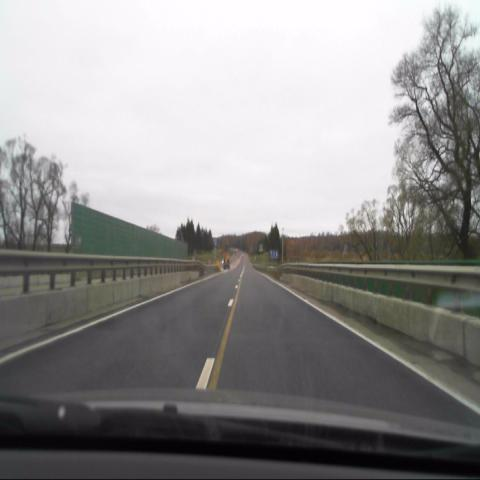5_15_1: (269, 248, 279, 261)
